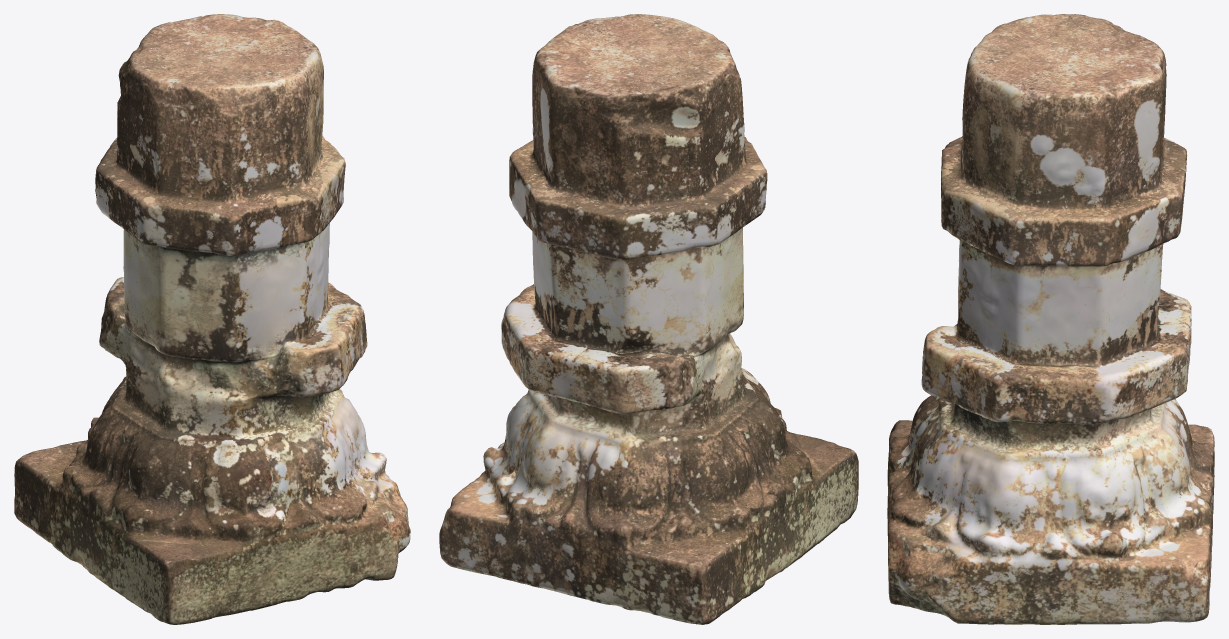
Rendered from 35_MysonSanctuaryB_Detru_final.glb.
3 views of the same model, side by side, from view 1: azimuth 30°, elevation 25°; view 2: azimuth 150°, elevation 25°; view 3: azimuth 270°, elevation 25° (orthographic). The views are drawn at different scales.
Size of the model in its own units: 0.4859 by 0.8454 by 0.4918.
Materials: 1 (1 with a texture image).
